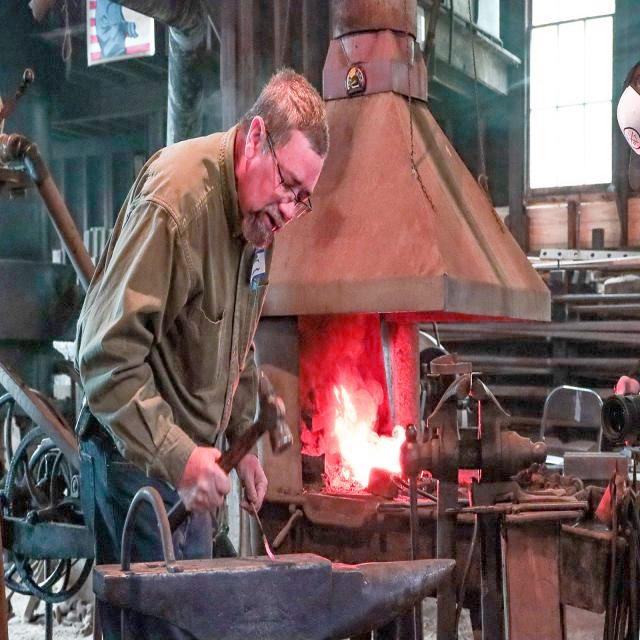hammer: (149, 362, 299, 544)
